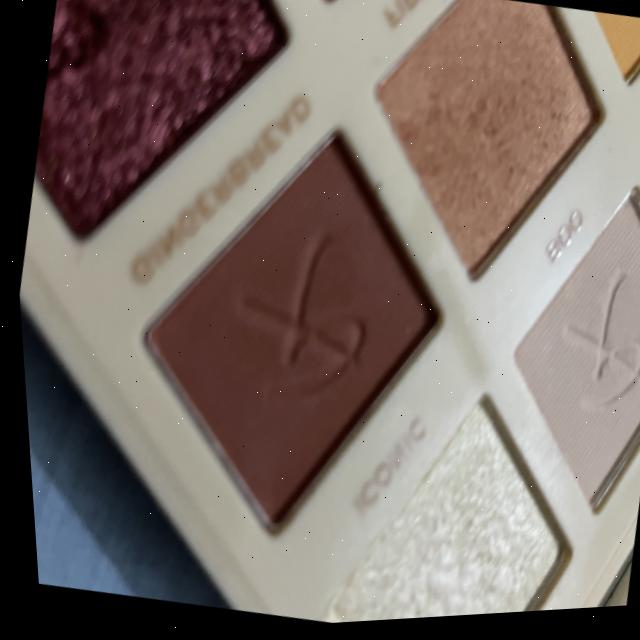eye shade: (79, 72, 493, 603), (327, 0, 640, 332), (7, 0, 323, 302), (296, 349, 612, 627), (462, 163, 640, 544)
